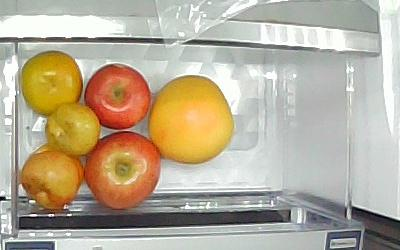apple: (85, 132, 161, 211), (86, 64, 151, 130)
grapefruit: (148, 74, 235, 164)
persimmon: (22, 51, 84, 117)
prune: (21, 151, 80, 211), (44, 102, 101, 156)
